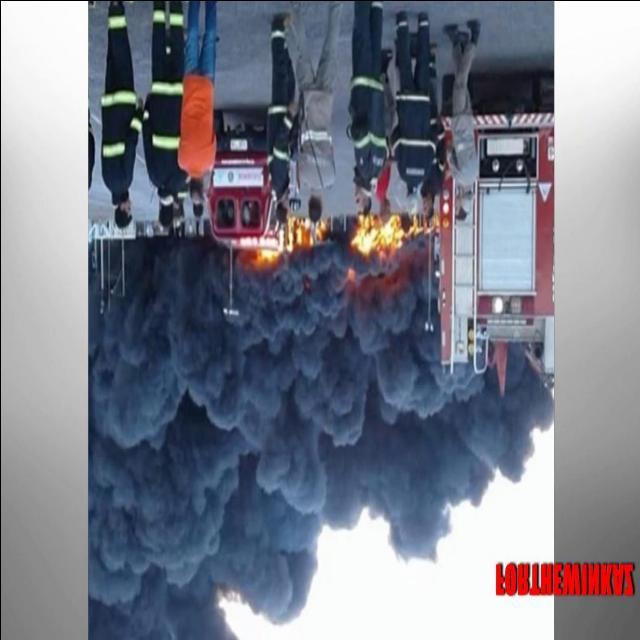Fire: (352, 209, 428, 255), (260, 220, 326, 258)
